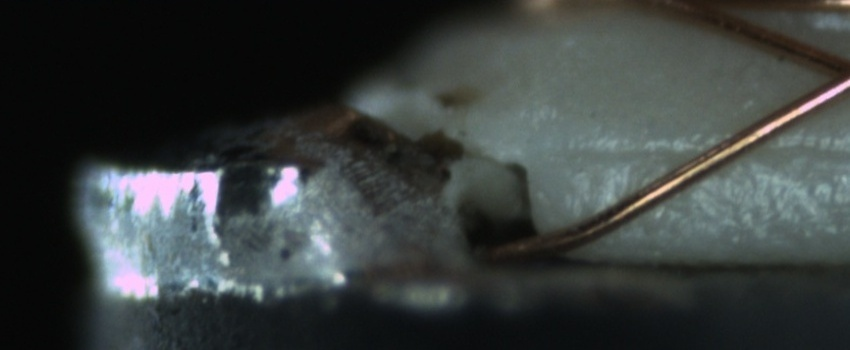CL: (803, 40, 850, 104)
DL: (568, 119, 846, 182)
